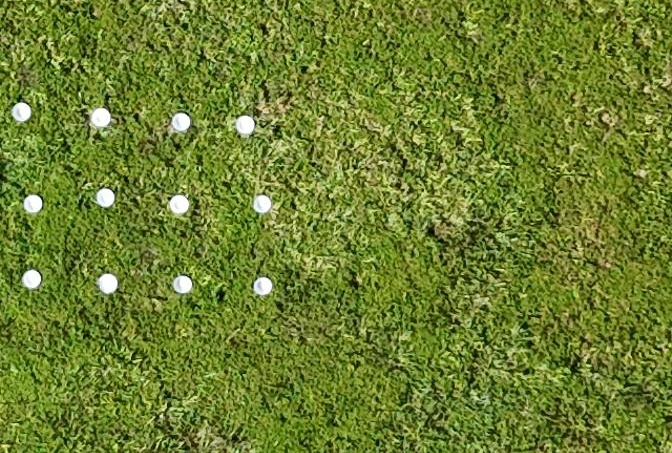bowl: (87, 107, 112, 130), (168, 112, 193, 135), (233, 115, 256, 137), (167, 194, 189, 216), (251, 193, 273, 215), (9, 102, 32, 123), (20, 270, 42, 290), (96, 274, 118, 294), (94, 189, 117, 208), (252, 277, 273, 297), (22, 194, 42, 214), (175, 275, 192, 295)
